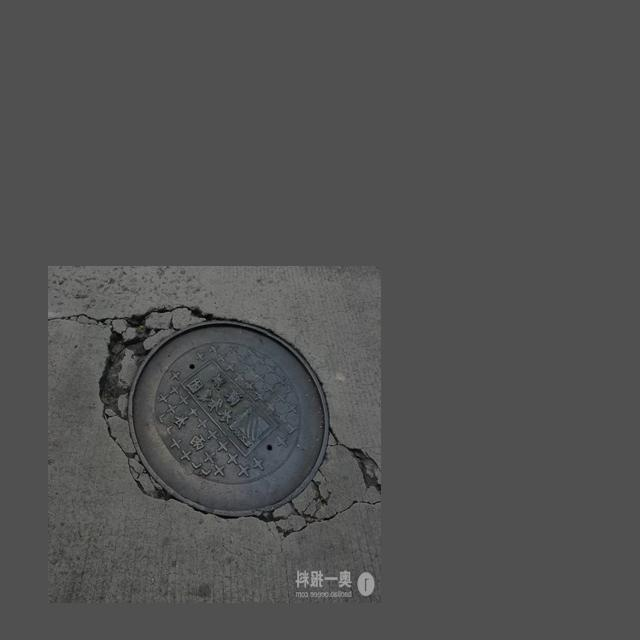circle: (94, 296, 375, 536)
